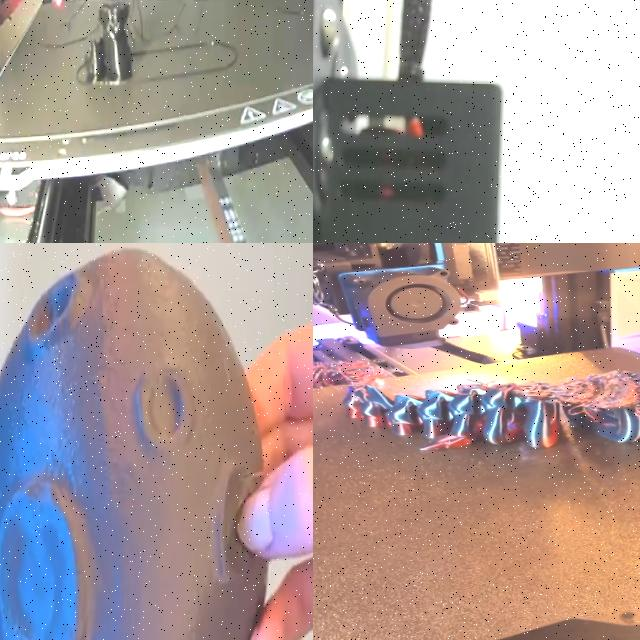spaghetti: (526, 369, 640, 447)
